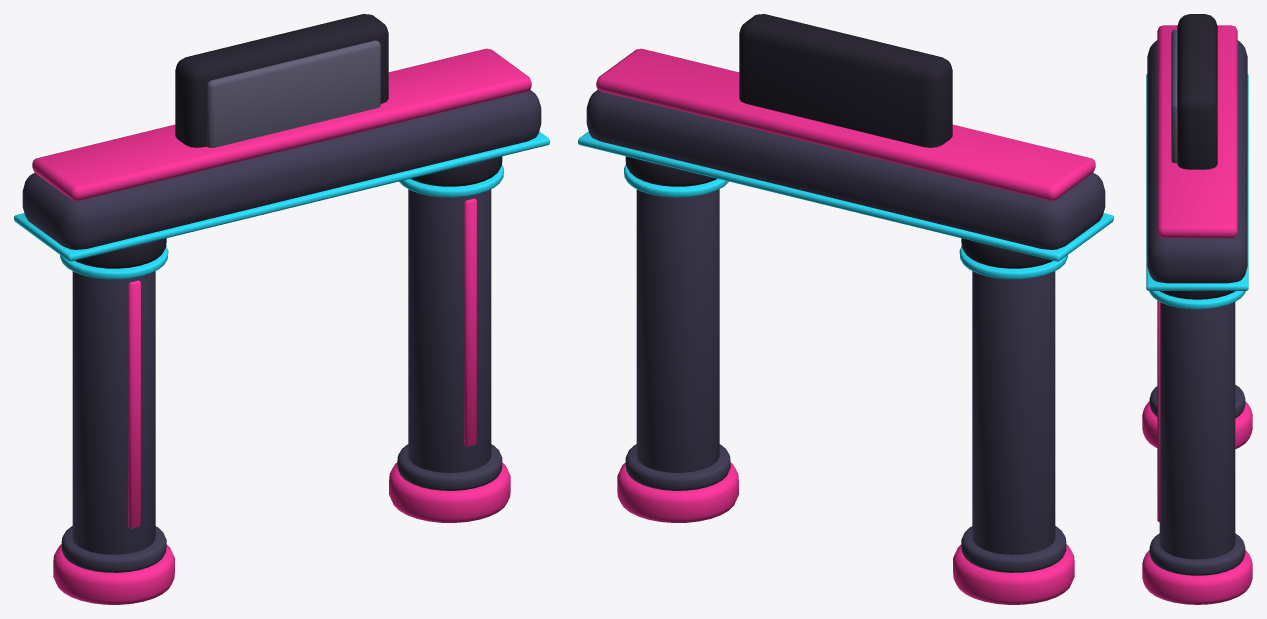
The model's file is Festival_EntranceArch.fbx.
3 renders of one model, left to right at view 1: azimuth 30°, elevation 25°; view 2: azimuth 150°, elevation 25°; view 3: azimuth 270°, elevation 25°, orthographic. The views are drawn at different scales.
Visible parts, largest first — view 1: Body, Neon_Magenta, Metal, Dark, Magenta, Neon_Cyan; view 2: Body, Dark, Neon_Magenta, Magenta, Neon_Cyan; view 3: Body, Neon_Magenta, Dark, Magenta, Neon_Cyan, Metal.
Part boxes in pixels (x1=…): Body: x1=22, y1=90, x2=541, y2=572; Neon_Magenta: x1=32, y1=48, x2=531, y2=528; Metal: x1=207, y1=40, x2=380, y2=147; Dark: x1=75, y1=14, x2=502, y2=268; Magenta: x1=53, y1=462, x2=510, y2=604; Neon_Cyan: x1=14, y1=131, x2=549, y2=279; Body: x1=586, y1=90, x2=1105, y2=572; Dark: x1=625, y1=14, x2=1052, y2=268; Neon_Magenta: x1=596, y1=48, x2=1095, y2=200; Magenta: x1=617, y1=462, x2=1074, y2=604; Neon_Cyan: x1=578, y1=131, x2=1113, y2=279; Body: x1=1147, y1=40, x2=1247, y2=575; Neon_Magenta: x1=1157, y1=25, x2=1237, y2=522; Dark: x1=1160, y1=14, x2=1234, y2=299; Magenta: x1=1142, y1=401, x2=1252, y2=604; Neon_Cyan: x1=1146, y1=74, x2=1248, y2=309; Metal: x1=1171, y1=29, x2=1177, y2=163.
Size of the model in its own units: 18.07 by 18 by 3.96.
